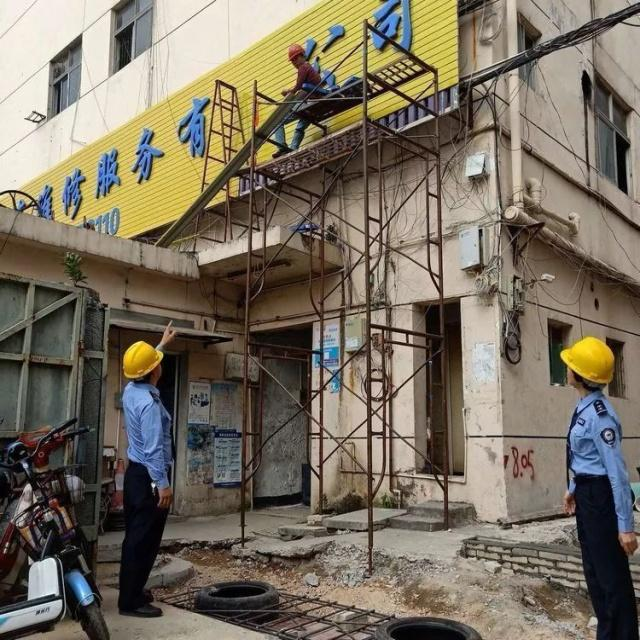helmet: (558, 443, 617, 528), (119, 448, 168, 523), (285, 54, 307, 94)
